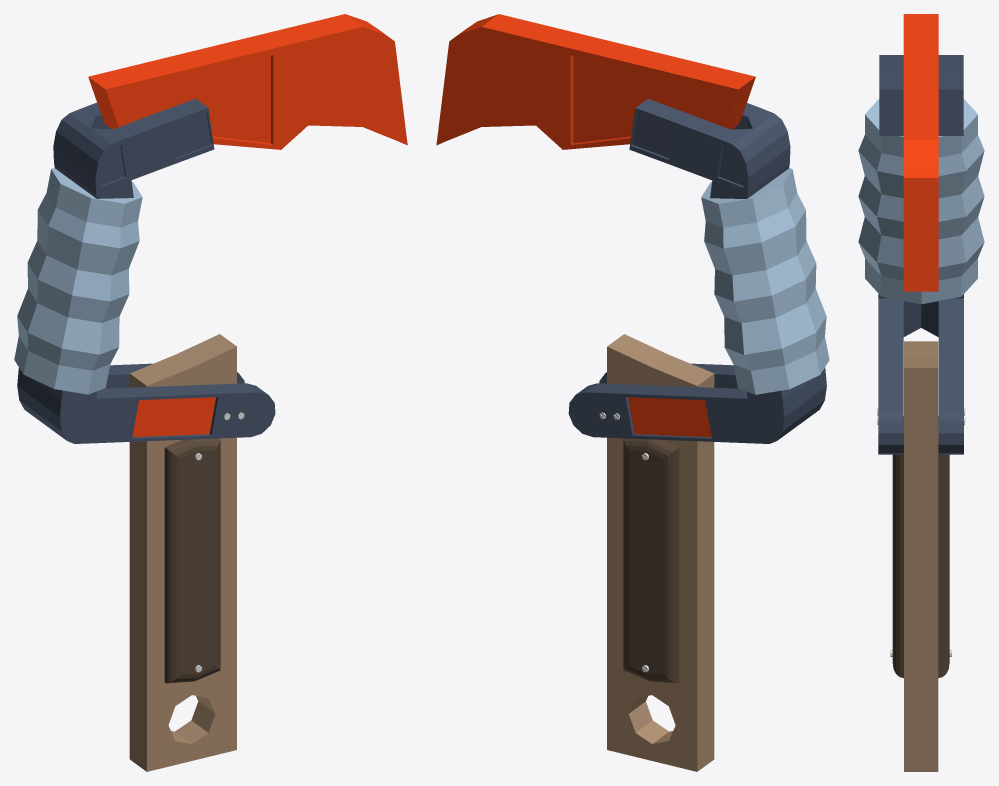
File: Throwing_hook.fbx
The picture shows the model from 3 angles, left to right: view 1: azimuth 30°, elevation 25°; view 2: azimuth 150°, elevation 25°; view 3: azimuth 270°, elevation 25°; orthographic projection.
Parts seen in each view (by area): view 1: Cube, Cube.004, Cylinder.001, Cube.001, Cube.003; view 2: Cube, Cube.004, Cylinder.001, Cube.001, Cube.003; view 3: Cube, Cylinder.001, Cube.004, Cube.001, Cube.003.
Part boxes in pixels (box(x1,y1,x2,y2)): Cube: box(129, 334, 236, 771); Cube.004: box(88, 14, 407, 149); Cylinder.001: box(14, 167, 142, 394); Cube.001: box(17, 363, 275, 443); Cube.003: box(53, 98, 214, 198); Cube: box(607, 334, 714, 771); Cube.004: box(436, 14, 755, 149); Cylinder.001: box(701, 168, 829, 394); Cube.001: box(568, 363, 826, 443); Cube.003: box(629, 99, 790, 198); Cube: box(892, 341, 949, 771); Cylinder.001: box(858, 99, 984, 304); Cube.004: box(903, 14, 938, 291); Cube.001: box(878, 294, 963, 454); Cube.003: box(879, 55, 963, 135).
Size of the model in its own units: 436 by 769 by 127.
